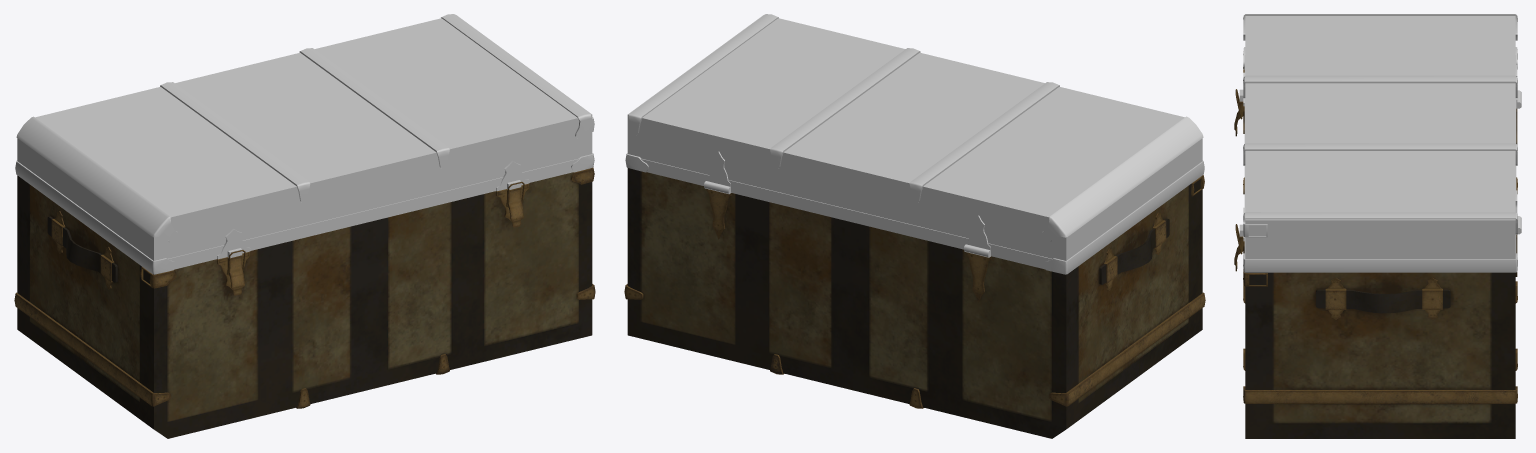
File: steamer_trunk_01.dae
3 renders of one model, left to right at view 1: azimuth 30°, elevation 25°; view 2: azimuth 150°, elevation 25°; view 3: azimuth 270°, elevation 25°, orthographic.
Visible parts, largest first — view 1: trunk_bottom_low, lid_top_low, lid_metal_brace_06_low, lid_metal_brace_07_low, trunk_metal_brace_03_low, lid_metal_brace_05_low, lid_metal_brace_02_low, lid_metal_brace_03_low, lid_metal_brace_04_low, trunk_handle_01_low; view 2: trunk_bottom_low, lid_top_low, lid_metal_brace_06_low, lid_metal_brace_08_low, trunk_metal_brace_03_low, lid_metal_brace_05_low, lid_metal_brace_03_low, lid_metal_brace_04_low, lid_metal_brace_02_low, trunk_handle_01_low, lid_hinge_01_low, lid_hinge_02_low (+2 smaller); view 3: lid_top_low, trunk_bottom_low, lid_metal_brace_01_low, trunk_metal_brace_04_low, lid_metal_brace_04_low, lid_metal_brace_02_low, lid_metal_brace_03_low, trunk_handle_02_low, lid_metal_brace_06_low, trunk_metal_handle_03_low, trunk_metal_handle_04_low.
Boxes of the visible parts, <box> form: trunk_bottom_low: <box>17,168,592,438</box>; lid_top_low: <box>17,14,592,269</box>; lid_metal_brace_06_low: <box>16,116,177,242</box>; lid_metal_brace_07_low: <box>168,158,578,268</box>; trunk_metal_brace_03_low: <box>14,292,170,406</box>; lid_metal_brace_05_low: <box>15,160,176,274</box>; lid_metal_brace_02_low: <box>441,14,594,138</box>; lid_metal_brace_03_low: <box>299,48,449,169</box>; lid_metal_brace_04_low: <box>160,82,310,203</box>; trunk_handle_01_low: <box>47,216,117,282</box>; trunk_bottom_low: <box>627,168,1202,438</box>; lid_top_low: <box>627,14,1202,269</box>; lid_metal_brace_06_low: <box>1042,116,1203,241</box>; lid_metal_brace_08_low: <box>641,158,1051,268</box>; trunk_metal_brace_03_low: <box>1049,292,1205,406</box>; lid_metal_brace_05_low: <box>1043,160,1204,274</box>; lid_metal_brace_03_low: <box>770,48,920,169</box>; lid_metal_brace_04_low: <box>909,82,1059,203</box>; lid_metal_brace_02_low: <box>628,14,778,135</box>; trunk_handle_01_low: <box>1099,218,1169,284</box>; lid_hinge_01_low: <box>704,151,731,194</box>; lid_hinge_02_low: <box>964,215,990,257</box>; lid_top_low: <box>1245,16,1515,259</box>; trunk_bottom_low: <box>1245,272,1515,438</box>; lid_metal_brace_01_low: <box>1243,253,1517,272</box>; trunk_metal_brace_04_low: <box>1243,386,1517,403</box>; lid_metal_brace_04_low: <box>1243,75,1517,98</box>; lid_metal_brace_02_low: <box>1243,212,1517,237</box>; lid_metal_brace_03_low: <box>1243,143,1517,165</box>; trunk_handle_02_low: <box>1316,289,1450,313</box>; lid_metal_brace_06_low: <box>1243,14,1517,40</box>; trunk_metal_handle_03_low: <box>1325,278,1346,319</box>; trunk_metal_handle_04_low: <box>1422,277,1442,319</box>.
Size of the model in its own units: 149 by 68.45 by 79.6.
